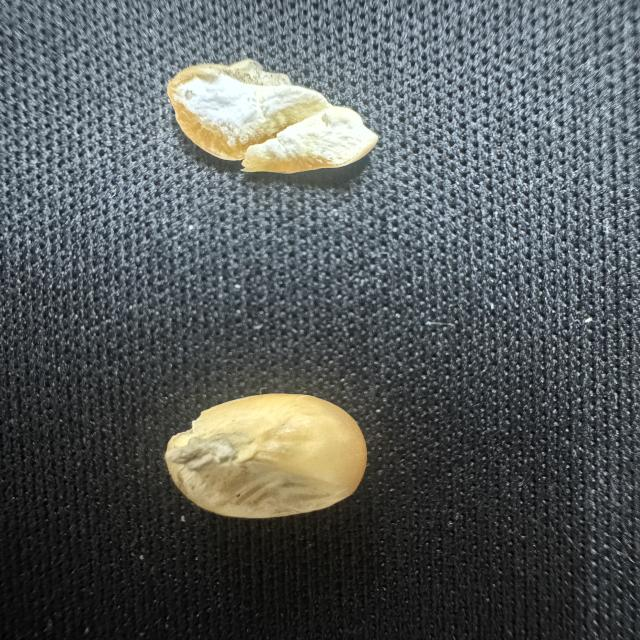Bad-Seed: (158, 388, 377, 522), (162, 55, 388, 177)
